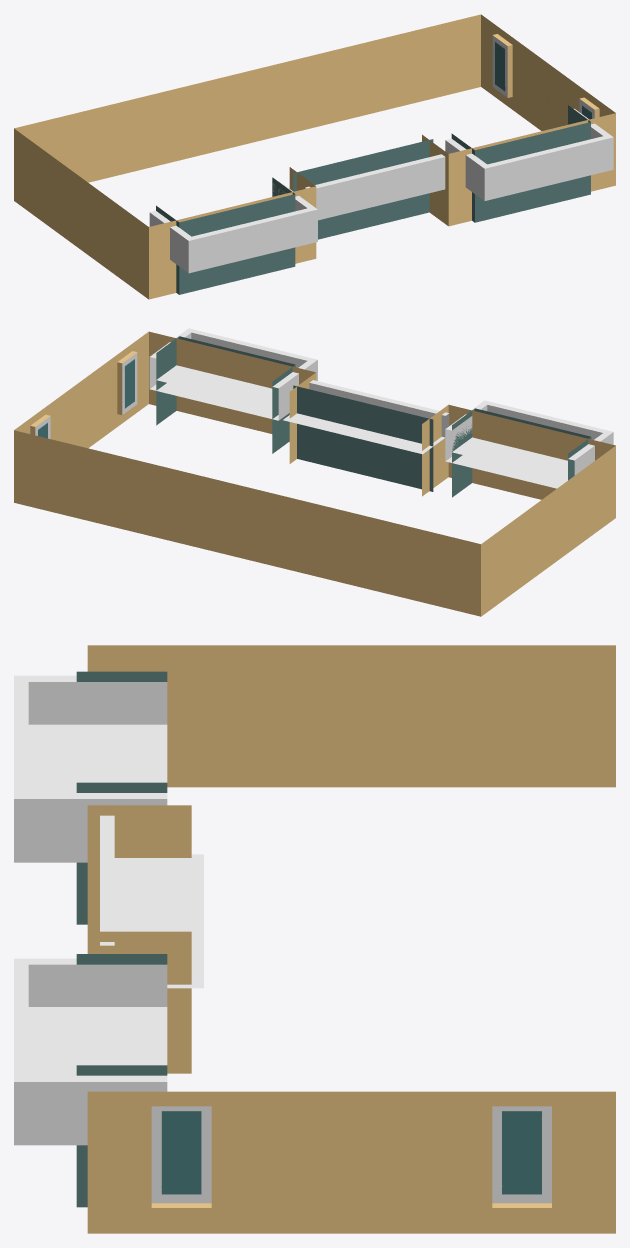
File: Town_Bld-Lrg_FloorD.FBX
3 renders of one model, top to bottom at view 1: azimuth 30°, elevation 25°; view 2: azimuth 150°, elevation 25°; view 3: azimuth 270°, elevation 25°, orthographic. The views are drawn at different scales.
Parts seen in each view (by area): view 1: Town_Bld-Lrg_FloorD; view 2: Town_Bld-Lrg_FloorD; view 3: Town_Bld-Lrg_FloorD.
Part boxes in pixels (<box>): Town_Bld-Lrg_FloorD: <box>14,14,615,299</box>; Town_Bld-Lrg_FloorD: <box>14,328,615,616</box>; Town_Bld-Lrg_FloorD: <box>14,645,615,1233</box>.
Bounding box in the file's own units: 1200 × 178 × 684.
